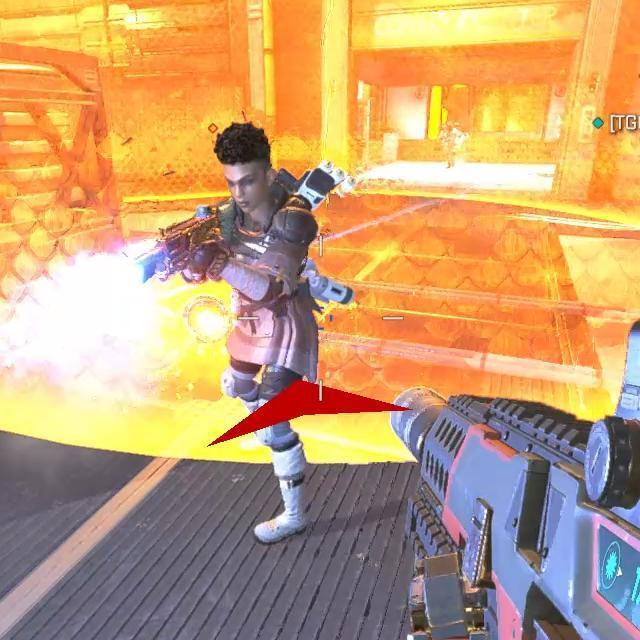avatar: (212, 119, 321, 547)
